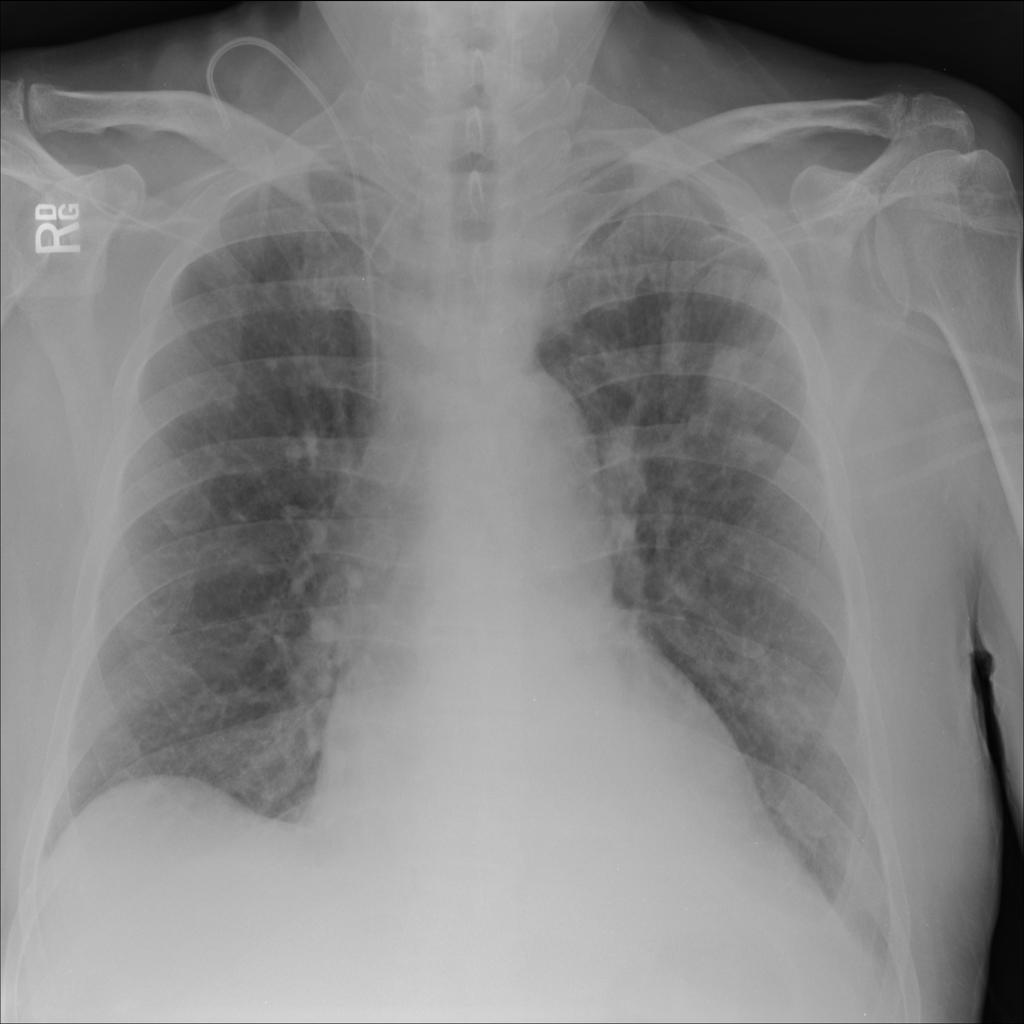nodule: (694, 309, 794, 435), (735, 649, 843, 763)
